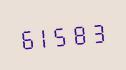eight: (72, 19, 89, 47)
five: (54, 20, 71, 49)
one: (36, 22, 53, 50)
six: (18, 23, 35, 52)
three: (90, 17, 107, 46)
